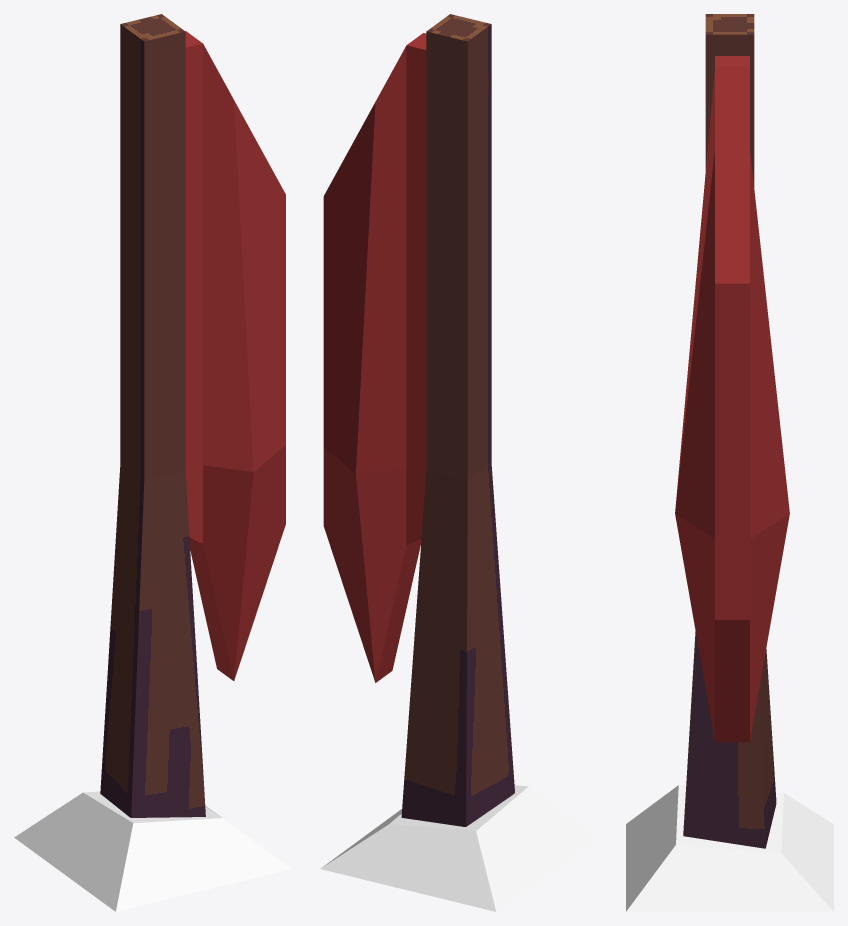
Rendered from flag_off.glb.
3 views of the same model, side by side, from view 1: azimuth 30°, elevation 25°; view 2: azimuth 150°, elevation 25°; view 3: azimuth 270°, elevation 25° (orthographic). The views are drawn at different scales.
Visible parts, largest first — view 1: Cube.003, Cube.005, Cube.004; view 2: Cube.003, Cube.005, Cube.004; view 3: Cube.005, Cube.004, Cube.003.
Boxes of the visible parts, box(x1,y1,x2,y2) form: Cube.003: box(100, 14, 205, 817); Cube.005: box(185, 31, 285, 680); Cube.004: box(14, 791, 291, 911); Cube.003: box(401, 14, 514, 826); Cube.005: box(323, 33, 426, 682); Cube.004: box(320, 785, 597, 911); Cube.005: box(675, 56, 789, 742); Cube.004: box(626, 785, 833, 911); Cube.003: box(683, 14, 776, 848).
Bounding box in the file's own units: 24.28 × 89.56 × 20.
1 material, 1 textured.
